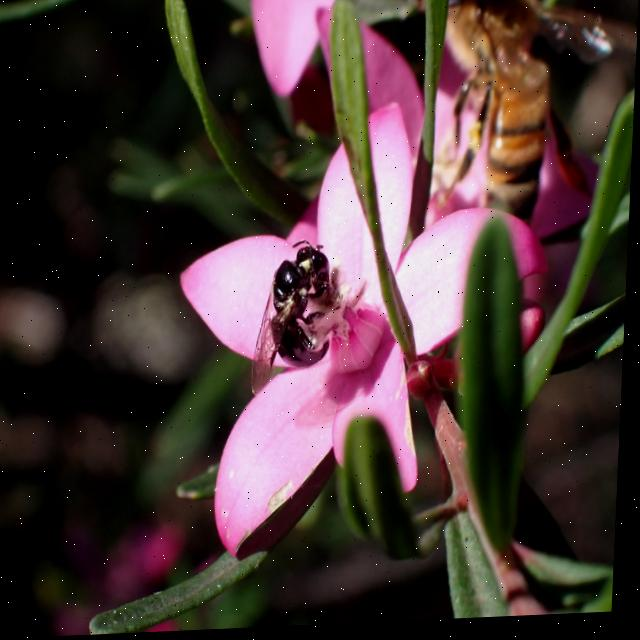Braunsapis: (252, 229, 360, 402)
